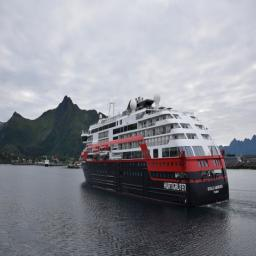cruises: (80, 94, 232, 209)
